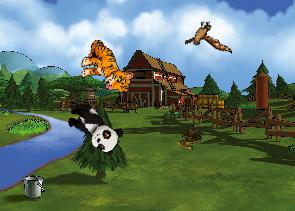eagle: (182, 18, 232, 58)
panda: (60, 97, 127, 158)
tiger: (75, 37, 140, 96)
